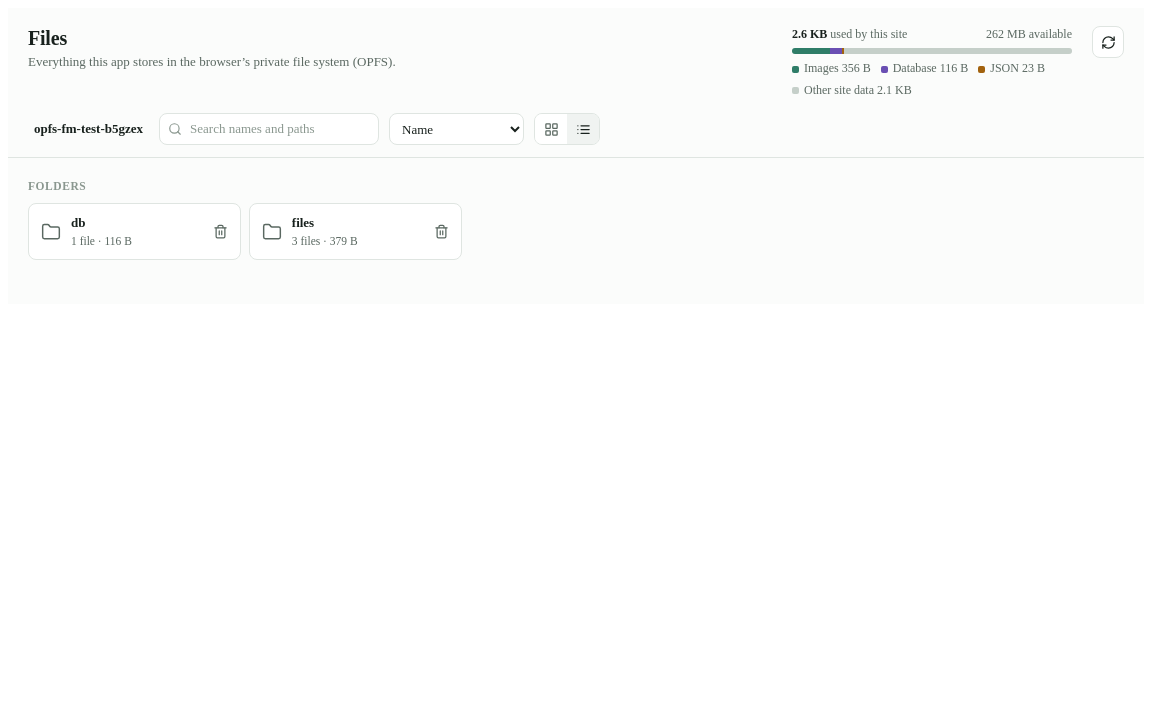
Test: OPFSFilesManager › deleting a folder › confirms, then removes the folder, its subfolders and resized copies
The width and height of the screenshot is (1152, 720).
Click the button "files 3 files · 379 B" at (355,232), box 249,203 -> 462,260
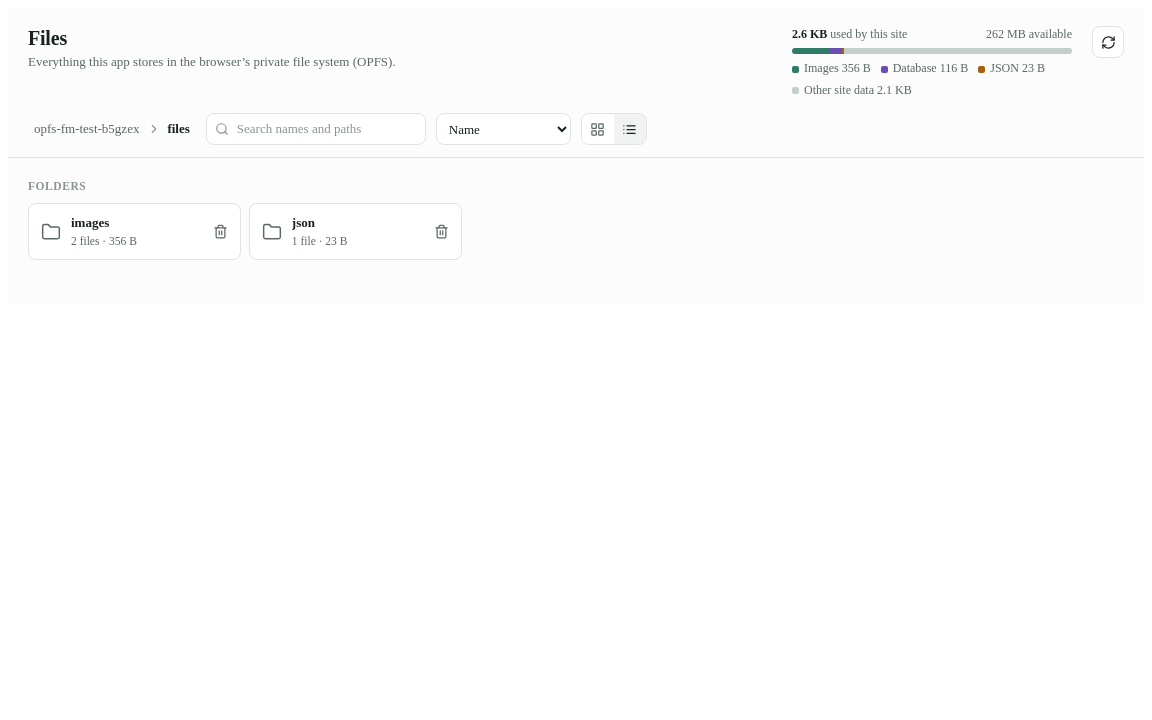
Click the button named "Delete folder images" at (221,232), box 207,218 -> 235,246
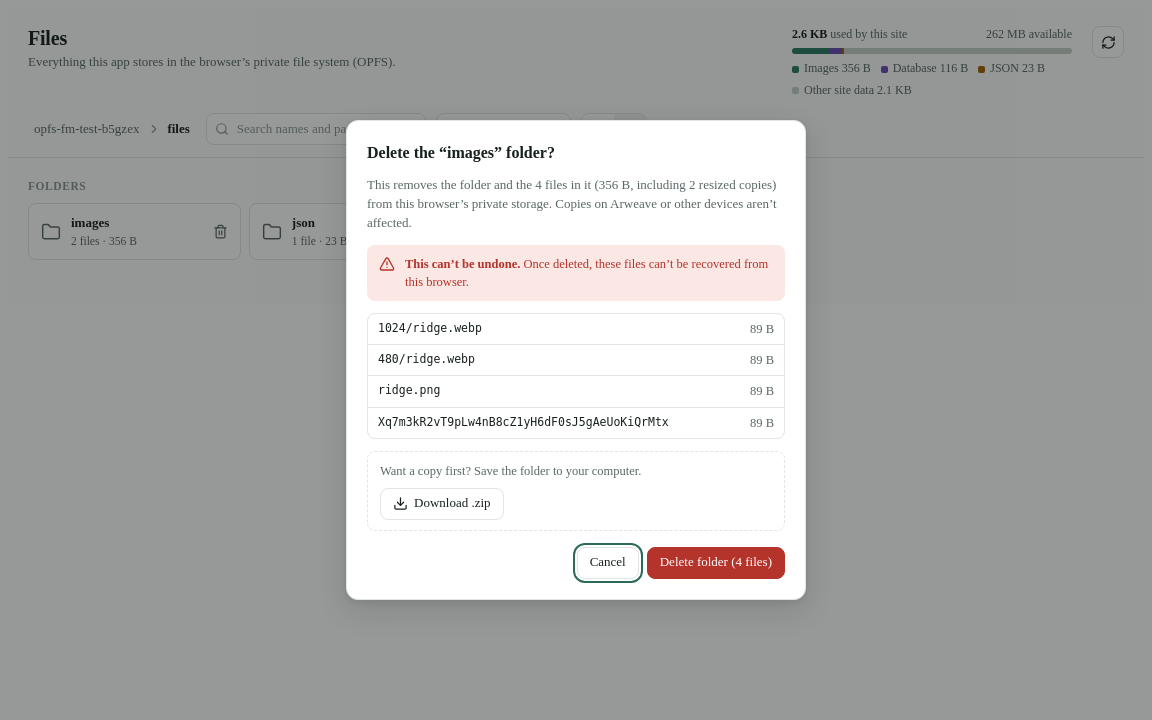
Expected: the dialog "Delete the “images” folder?" shows "can’t be undone", 405,257 -> 520,271
Expected: the dialog "Delete the “images” folder?" shows "including 2 resized copies", 630,177 -> 772,192
Click the button "Delete folder (4 files)" at (716,563), box 647,547 -> 785,579
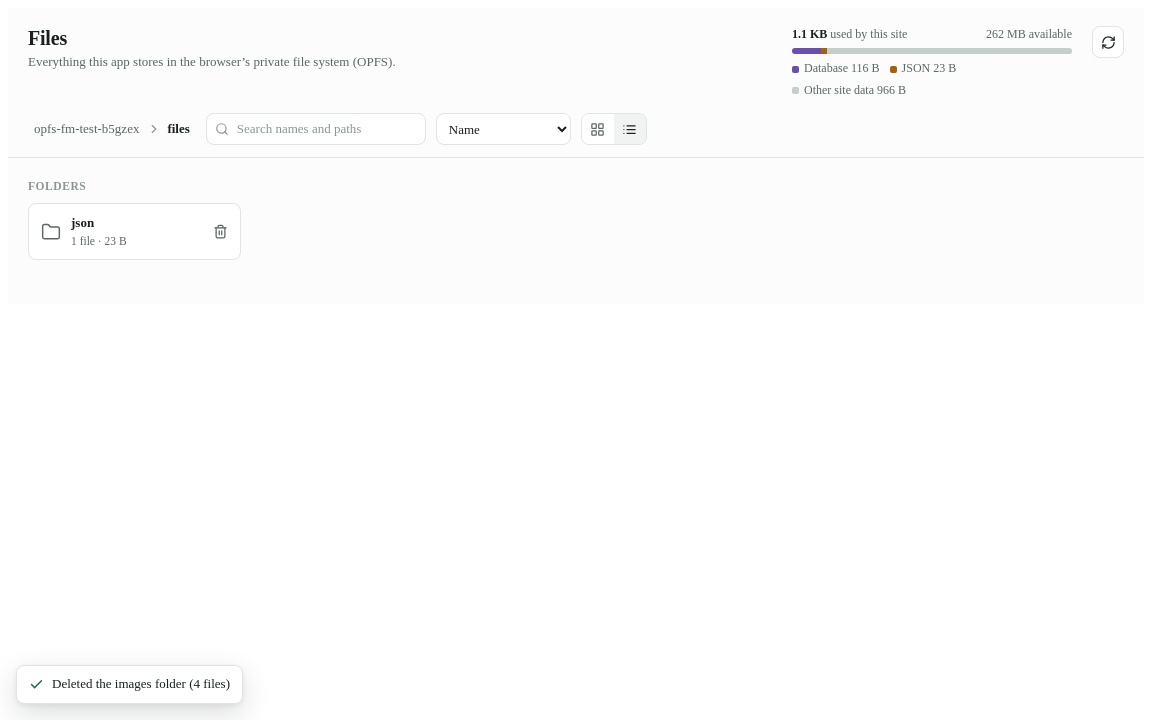
Expected: the list item "Deleted the images folder (4 files)" is shown, 16,665 -> 243,704
Expected: the list item "Images 356 B" is gone
